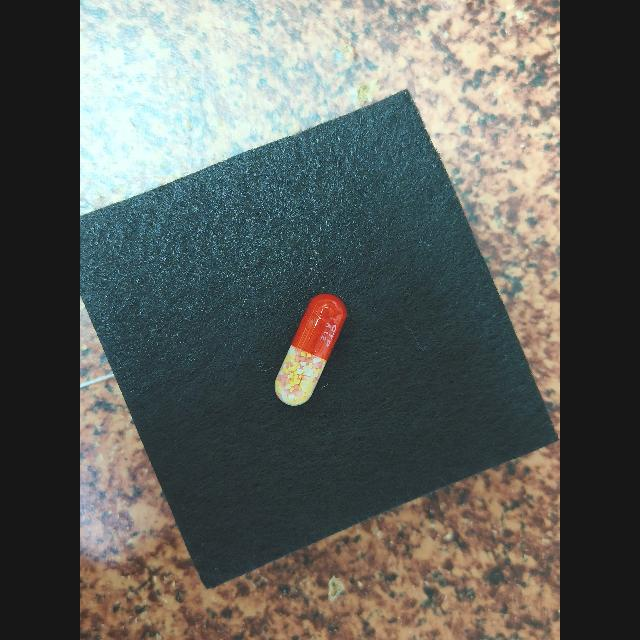Intact Capsule: (275, 293, 347, 406)
